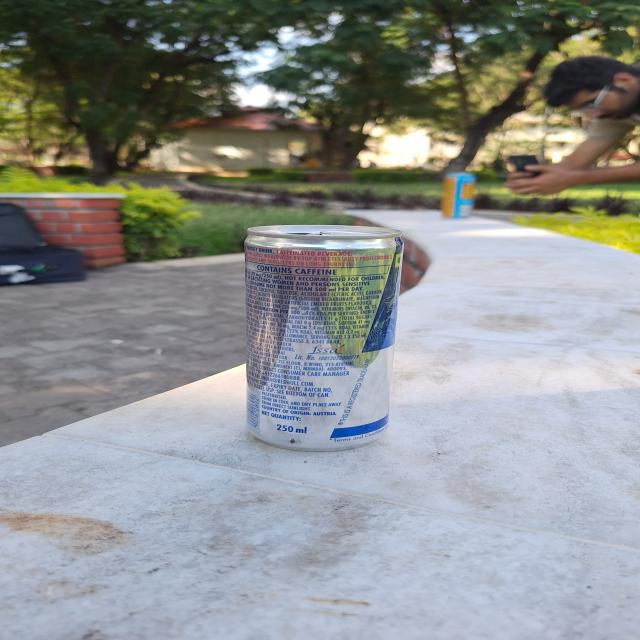Monster Mango Loco: (441, 173, 475, 217)
Redbul: (243, 226, 392, 447)
